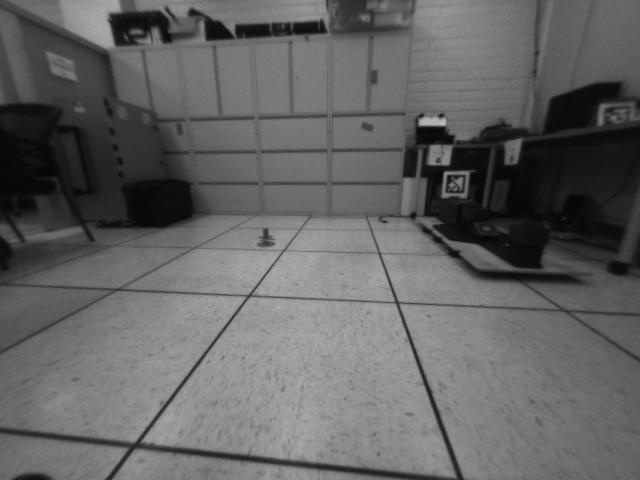X: (258, 228, 273, 240)
